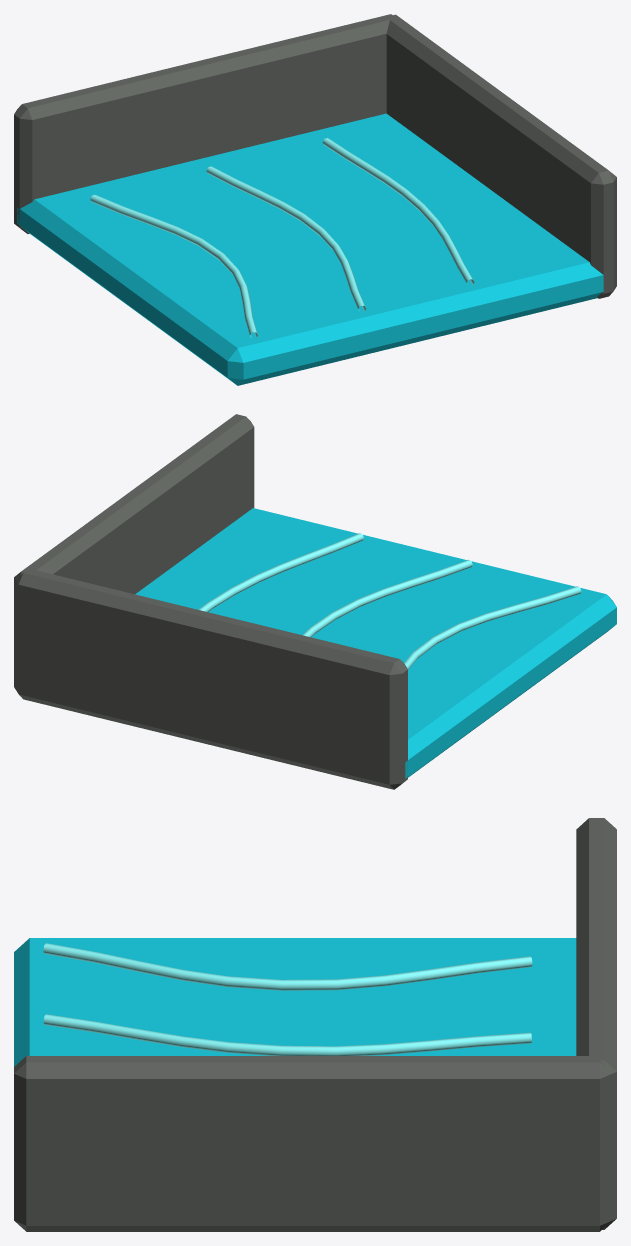
Rendered from terrain-ice-29.glb.
3 views of the same model, one above another, from view 1: azimuth 30°, elevation 25°; view 2: azimuth 150°, elevation 25°; view 3: azimuth 270°, elevation 25° (orthographic). The views are drawn at different scales.
Visible parts, largest first — view 1: terrain-ice-29; view 2: terrain-ice-29; view 3: terrain-ice-29.
Boxes of the visible parts, <box> form: terrain-ice-29: <box>14,14,616,385</box>; terrain-ice-29: <box>14,414,616,789</box>; terrain-ice-29: <box>14,818,616,1231</box>.
Size of the model in its own units: 0.9675 by 0.3 by 0.9675.
